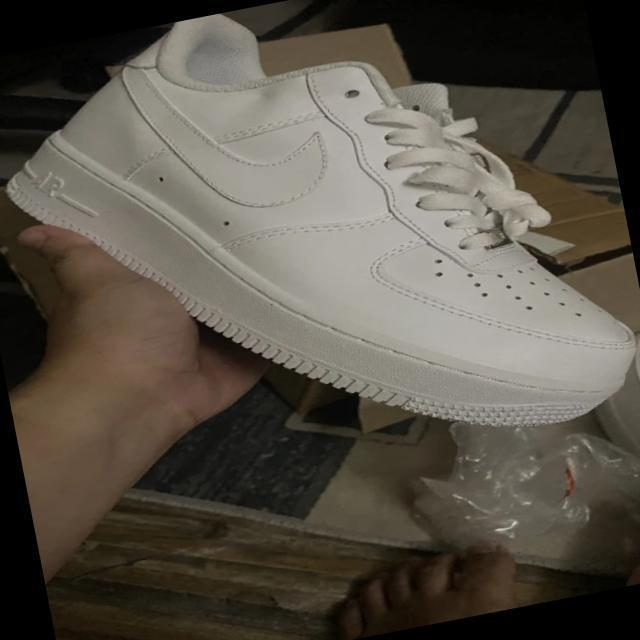nike original air force: (0, 0, 640, 519)
